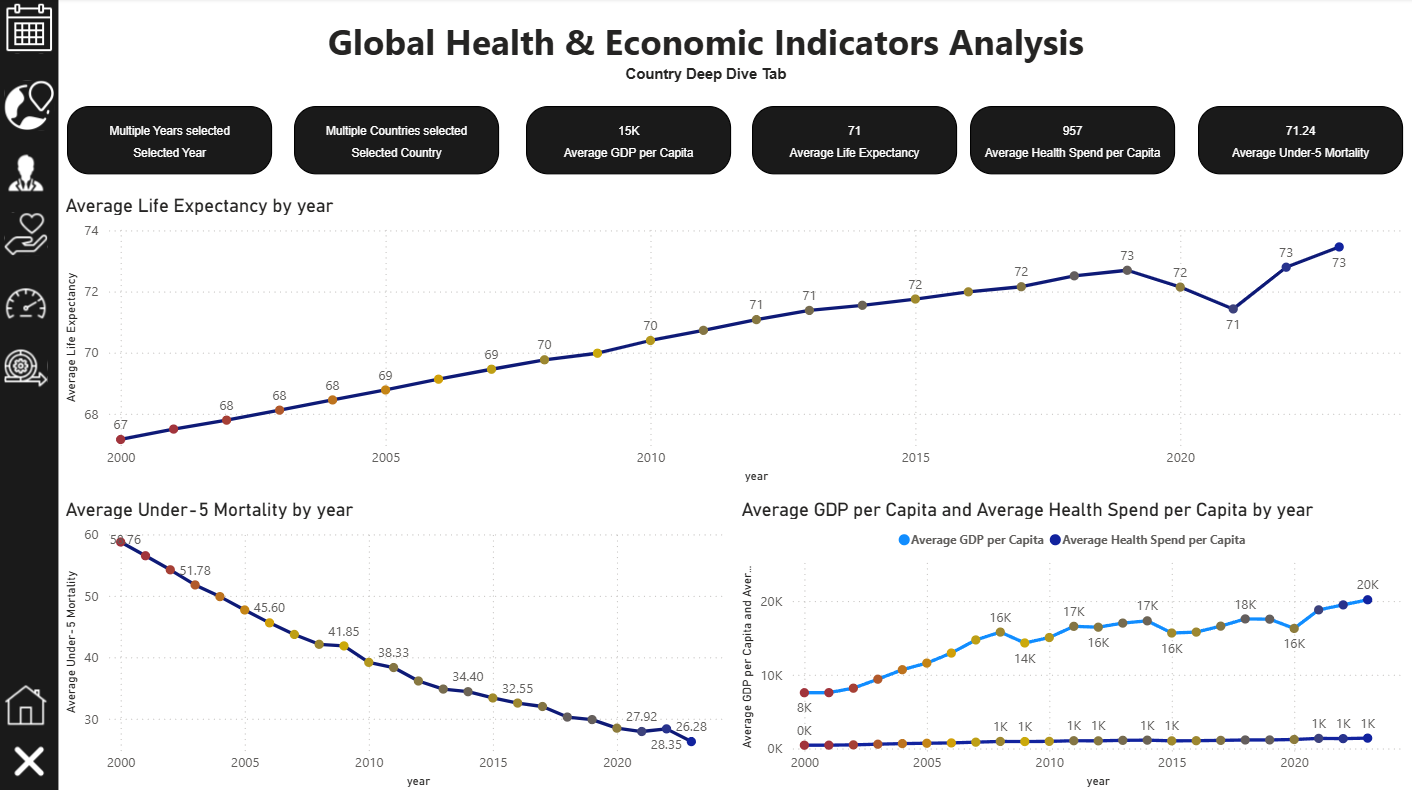

What the dashboard file says about the page in this screenshot:
{"tool":"powerbi","page":{"name":"Country Deep Dive","canvas":[1280,720],"ordinal":3},"visuals":[{"type":"shape","title":"Side Bar","box":[0,0,53,720],"z":0},{"type":"card","title":"Average Life Expectancy Card","fields":{"Values":["Measure.Average Life Expectancy"]},"box":[682,98,186,62],"z":1000},{"type":"card","title":"Average GDP per Capita Card","fields":{"Values":["Measure.Average GDP per Capita"]},"box":[477,98,186,62],"z":2000},{"type":"card","title":"Average Health Spend per Capita Card","fields":{"Values":["Measure.Average Health Spend per Capita"]},"box":[880,98,186,62],"z":3000},{"type":"card","title":"Average Under-5 Mortality Card","fields":{"Values":["Measure.Average Under-5 Mortality"]},"box":[1086,98,186,62],"z":4000},{"type":"actionButton","title":"Country Filter Button","box":[0,70,53,55],"z":4500},{"type":"textbox","title":"Report Name Text Box","box":[154,12,972,76],"z":5000},{"type":"actionButton","title":"Date Filter Button","box":[0,0,53,55],"z":6000},{"type":"card","title":"Selected Country Card","fields":{"Values":["Measure.Selected Country"]},"box":[267,98,186,62],"z":8000},{"type":"card","title":"Selected Year Card","fields":{"Values":["Measure.Selected Year"]},"box":[61,98,186,62],"z":9000},{"type":"lineChart","fields":{"Category":["dim_year.year"],"Y":["Measure.Average Life Expectancy"]},"box":[54,178,1226,266],"z":13000},{"type":"lineChart","fields":{"Category":["dim_year.year"],"Y":["Measure.Average GDP per Capita","Measure.Average Health Spend per Capita"]},"box":[667,453,613,267],"z":14000},{"type":"lineChart","fields":{"Category":["dim_year.year"],"Y":["Measure.Average Under-5 Mortality"]},"box":[54,453,613,267],"z":15000},{"type":"actionButton","title":"Executive Summary Tab Button","box":[0,135.5,52.3,47],"z":16000},{"type":"actionButton","title":"Indicator Trends Tab Button","box":[0,253.6,52.3,47],"z":17000},{"type":"actionButton","title":"Economic vs Health Correlation Tab Button","box":[0,190.5,52.3,47],"z":18000},{"type":"actionButton","title":"Data & Methodology Tab Button","box":[0,311.3,52.3,47],"z":19000},{"type":"actionButton","title":"Home page Button","box":[0,618.5,52.3,47],"z":20000},{"type":"actionButton","title":"Close Button","box":[0,665,53,55],"z":21500}]}

Visuals, with their boxes on the page's 1280x720 design canvas (x1, y1, x2, y2). These are canvas units, not pixel positions in the 1412x790 screenshot, which may show the page scaled, cropped or inside an application window:
"Side Bar" shape: box(0, 0, 53, 720)
"Average Life Expectancy Card" card: box(682, 98, 868, 160)
"Average GDP per Capita Card" card: box(477, 98, 663, 160)
"Average Health Spend per Capita Card" card: box(880, 98, 1066, 160)
"Average Under-5 Mortality Card" card: box(1086, 98, 1272, 160)
"Country Filter Button" actionButton: box(0, 70, 53, 125)
"Report Name Text Box" textbox: box(154, 12, 1126, 88)
"Date Filter Button" actionButton: box(0, 0, 53, 55)
"Selected Country Card" card: box(267, 98, 453, 160)
"Selected Year Card" card: box(61, 98, 247, 160)
lineChart - dim_year.year x Measure.Average Life Expectancy: box(54, 178, 1280, 444)
lineChart - dim_year.year x Measure.Average GDP per Capita: box(667, 453, 1280, 720)
lineChart - dim_year.year x Measure.Average Under-5 Mortality: box(54, 453, 667, 720)
"Executive Summary Tab Button" actionButton: box(0, 136, 52, 182)
"Indicator Trends Tab Button" actionButton: box(0, 254, 52, 301)
"Economic vs Health Correlation Tab Button" actionButton: box(0, 190, 52, 238)
"Data & Methodology Tab Button" actionButton: box(0, 311, 52, 358)
"Home page Button" actionButton: box(0, 618, 52, 666)
"Close Button" actionButton: box(0, 665, 53, 720)
